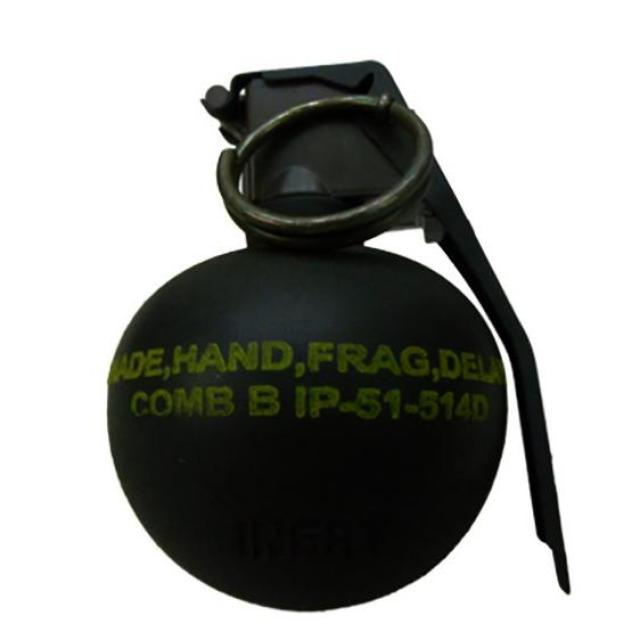grenade: (108, 61, 574, 614)
